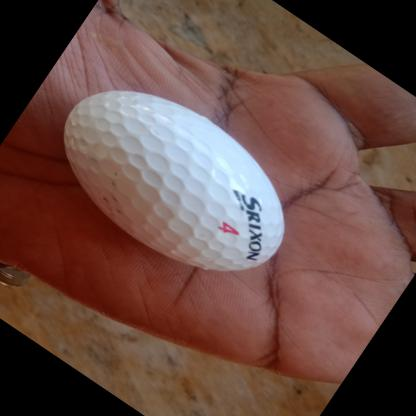Golf: (22, 44, 327, 318)
